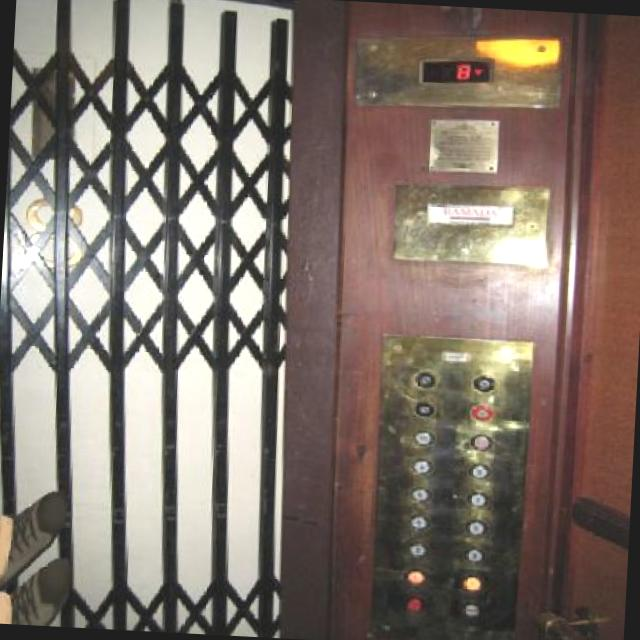Person: (0, 485, 78, 626)
